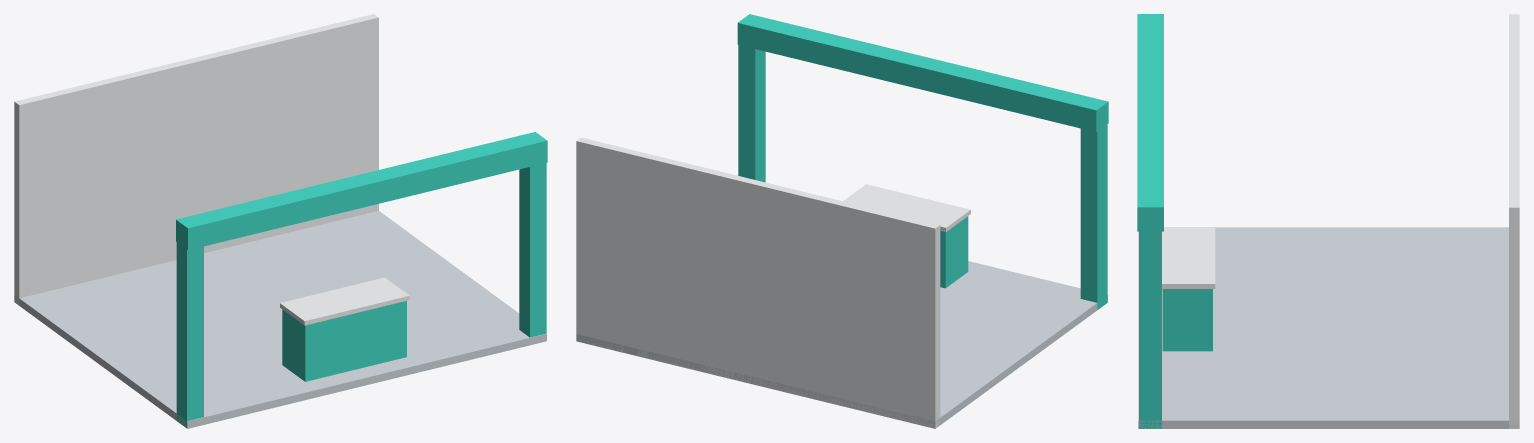
The picture shows the model from 3 angles, left to right: view 1: azimuth 30°, elevation 25°; view 2: azimuth 150°, elevation 25°; view 3: azimuth 270°, elevation 25°; orthographic projection. The views are drawn at different scales.
Visible parts, largest first — view 1: Exhibition Booth Concept; view 2: Exhibition Booth Concept; view 3: Exhibition Booth Concept.
Part boxes in pixels (x1,y1,x2,y2): Exhibition Booth Concept: (14, 14, 547, 428); Exhibition Booth Concept: (576, 14, 1108, 428); Exhibition Booth Concept: (1137, 14, 1519, 428).
Bounding box in the file's own units: 6 × 3.2 × 5.02.
